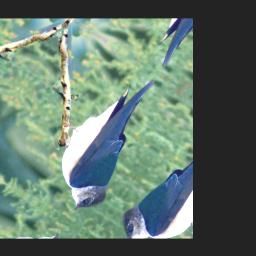Swallow: (22, 54, 178, 223)
